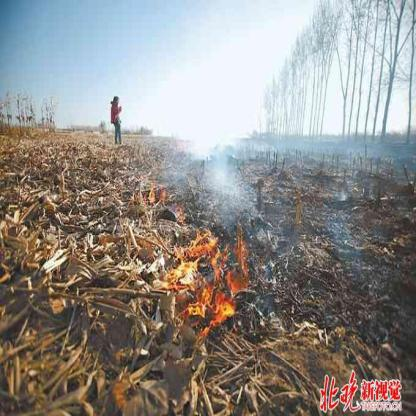fire: (135, 177, 249, 346), (107, 365, 138, 406)
other: (106, 86, 125, 139)
smoke: (205, 137, 230, 185)
